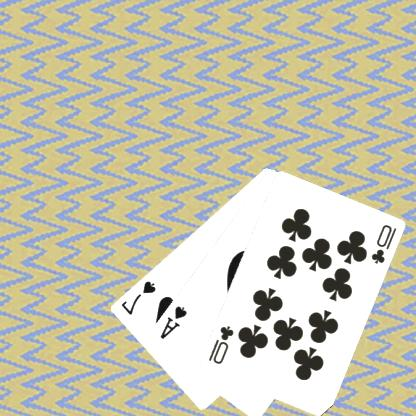10C: (370, 221, 399, 266), (207, 323, 236, 366)
7S: (119, 278, 159, 316)
AS: (159, 302, 190, 341)
